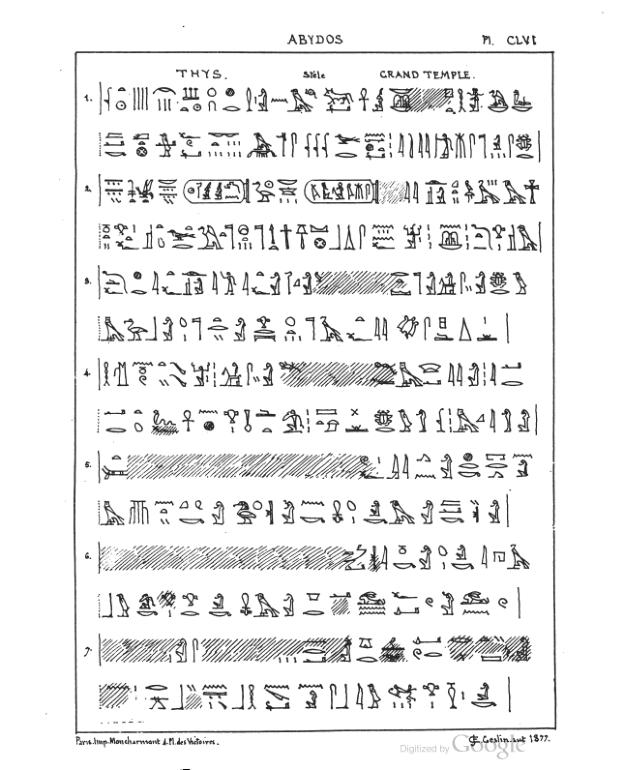circle: (182, 176, 253, 207), (303, 178, 383, 204)
